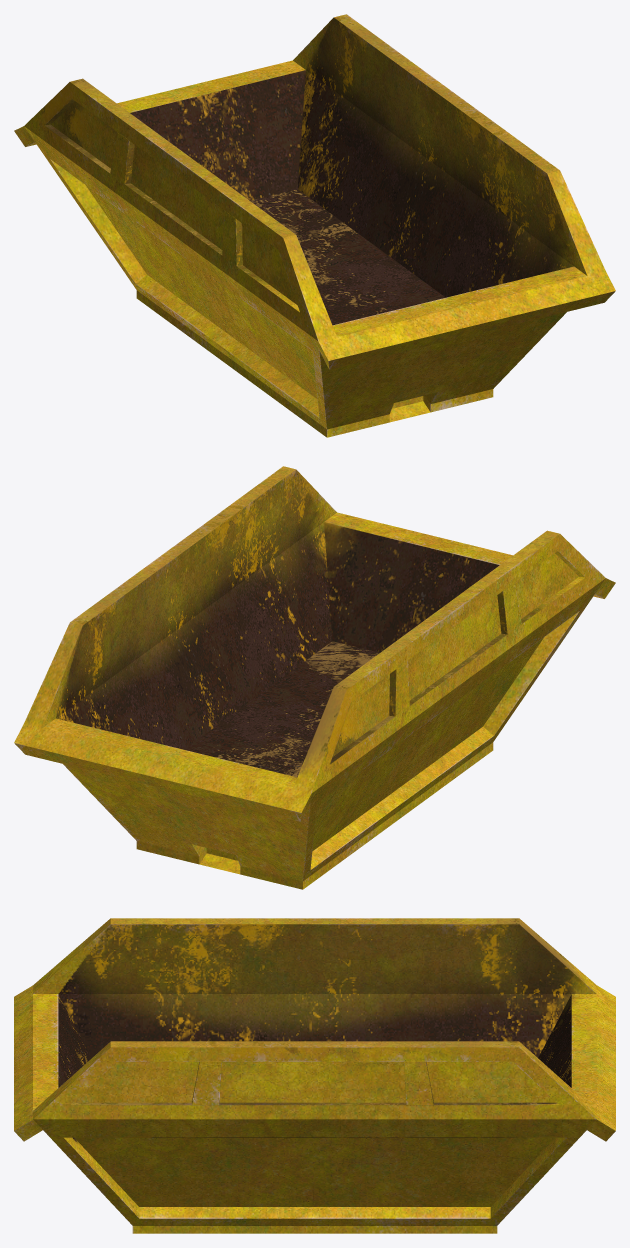
Rendered from skip waste fill.fbx.
The picture shows the model from 3 angles, top to bottom: view 1: azimuth 30°, elevation 25°; view 2: azimuth 150°, elevation 25°; view 3: azimuth 270°, elevation 25°; orthographic projection. The views are drawn at different scales.
Visible parts, largest first — view 1: Box001; view 2: Box001; view 3: Box001.
Part boxes in pixels (left/top/right/bottom): Box001: left=14, top=14, right=615, bottom=437; Box001: left=14, top=466, right=615, bottom=889; Box001: left=14, top=918, right=615, bottom=1233.
Bounding box in the file's own units: 105 × 77.48 × 199.
